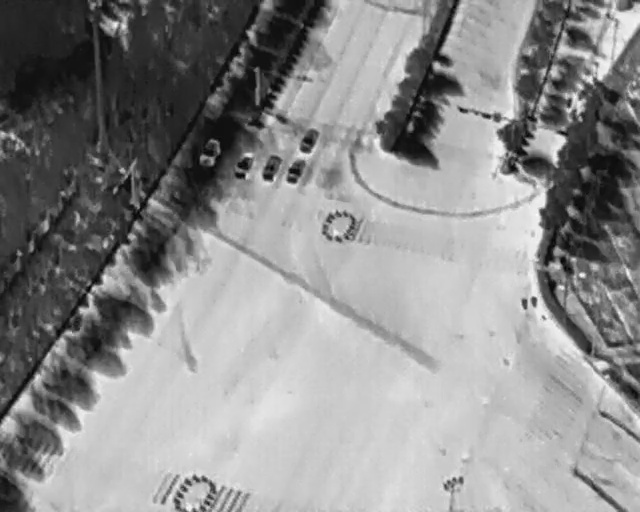Car: (295, 124, 324, 157), (232, 150, 258, 182), (199, 135, 224, 167), (284, 155, 308, 187), (260, 152, 284, 183)
